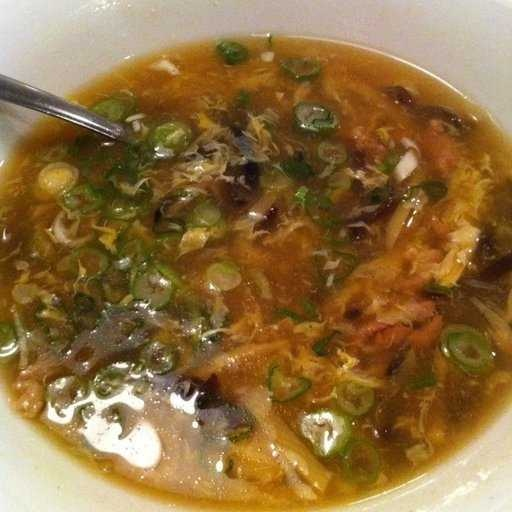soup: (2, 35, 512, 502)
